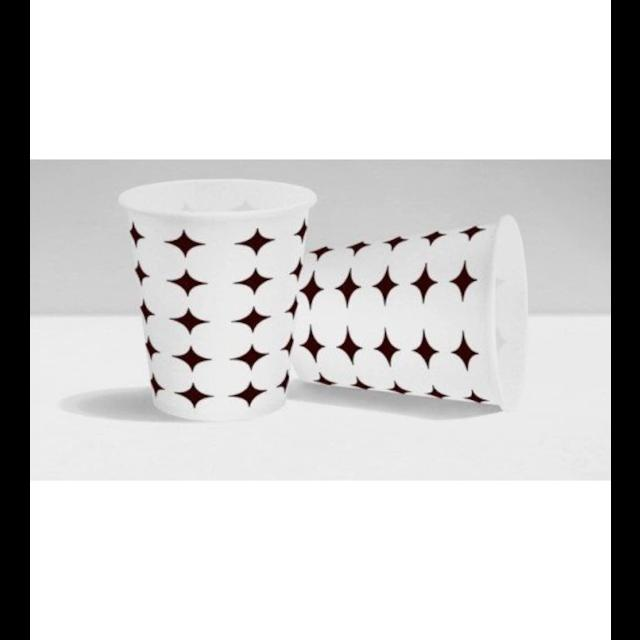trash: (125, 157, 312, 465), (287, 222, 601, 402)
